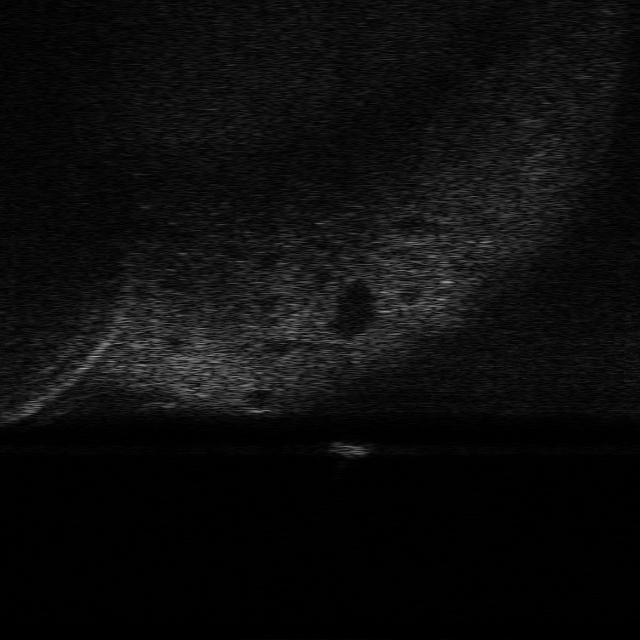cube: (328, 438, 374, 458)
